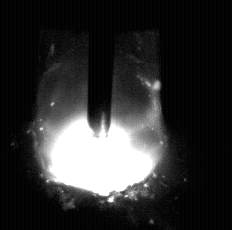arame: (87, 0, 113, 138)
poca: (34, 0, 168, 230)
